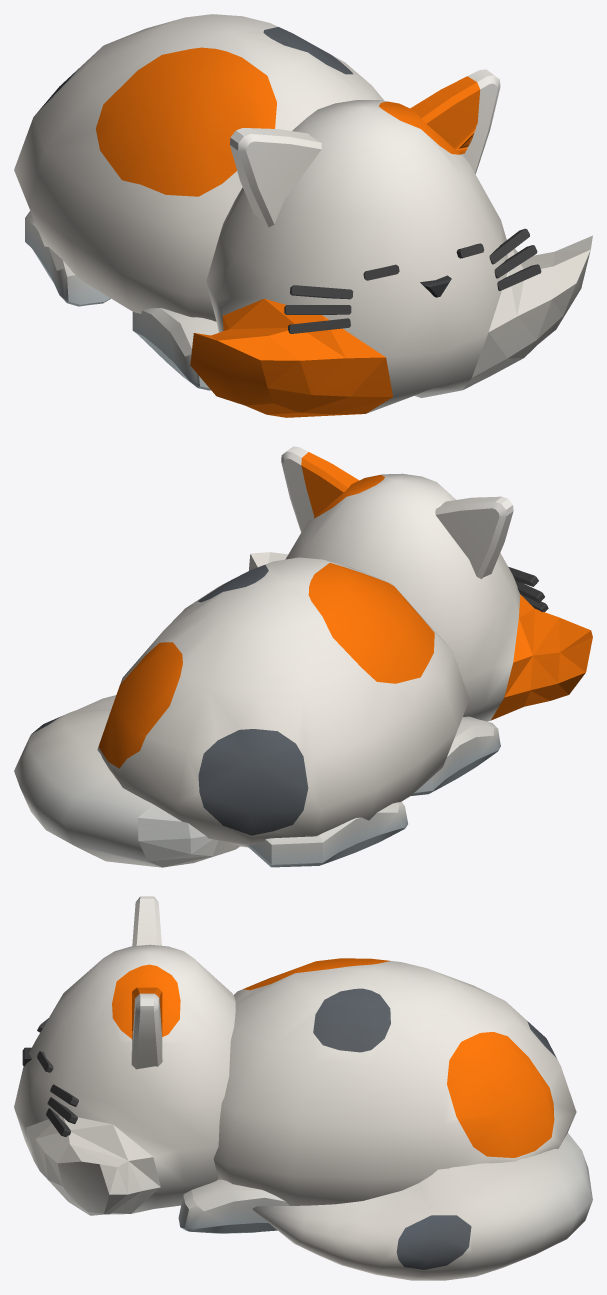
File: Cat_Sleeping.FBX
The picture shows the model from 3 angles, top to bottom: view 1: azimuth 30°, elevation 25°; view 2: azimuth 150°, elevation 25°; view 3: azimuth 270°, elevation 25°; orthographic projection. The views are drawn at different scales.
Visible parts, largest first — view 1: Cat_Sleeping; view 2: Cat_Sleeping; view 3: Cat_Sleeping.
Part boxes in pixels (box(x1,y1,x2,y2)): Cat_Sleeping: box(14, 14, 592, 417); Cat_Sleeping: box(14, 446, 592, 867); Cat_Sleeping: box(14, 896, 592, 1280).
Bounding box in the file's own units: 0.549 × 0.3708 × 0.7268.
